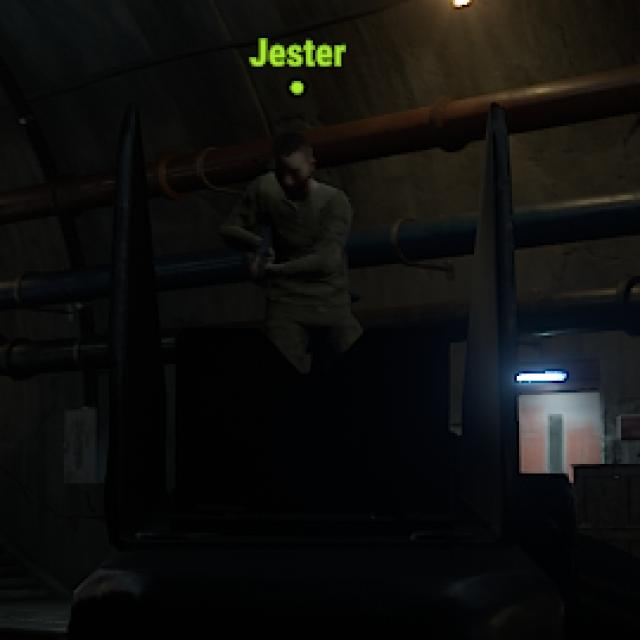Player: (217, 138, 357, 330)
